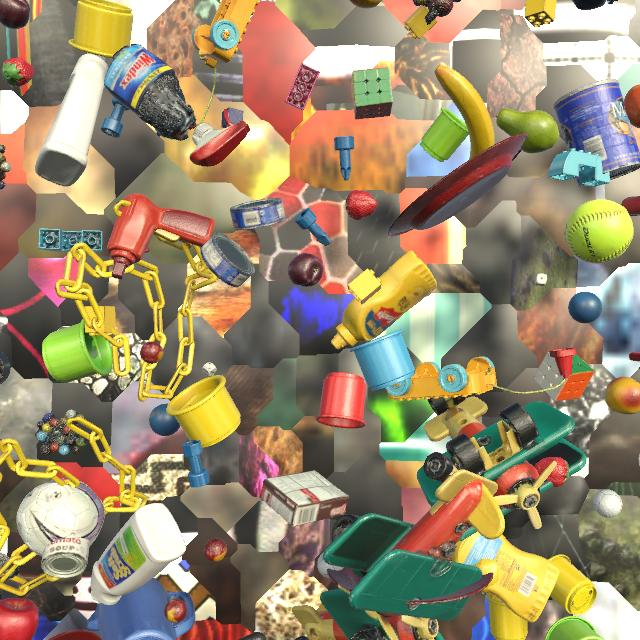ycb_002_master_chef_can: (553, 79, 640, 187)
ycb_005_tomato_soup_can: (41, 537, 90, 578), (638, 453, 640, 467)
ycb_006_mustard_bottle: (331, 251, 437, 350), (451, 532, 560, 623)
ycb_007_tuna_fish_can: (200, 232, 255, 287), (230, 198, 286, 230)
ycb_008_pudding_box: (259, 470, 349, 527)
ycb_011_banana: (435, 65, 495, 160)
ycb_012_strawberry: (534, 457, 569, 487), (1, 57, 34, 87), (345, 190, 377, 220)
ycb_013_apple: (0, 598, 39, 640)
ycb_014_lemon: (476, 559, 498, 593)
ycb_015_peach: (605, 377, 640, 415), (349, 0, 382, 8)
ycb_016_pear: (495, 109, 559, 154)
ycb_017_orange: (624, 85, 640, 129)
ycb_018_plum: (288, 253, 323, 287), (0, 0, 30, 29)
